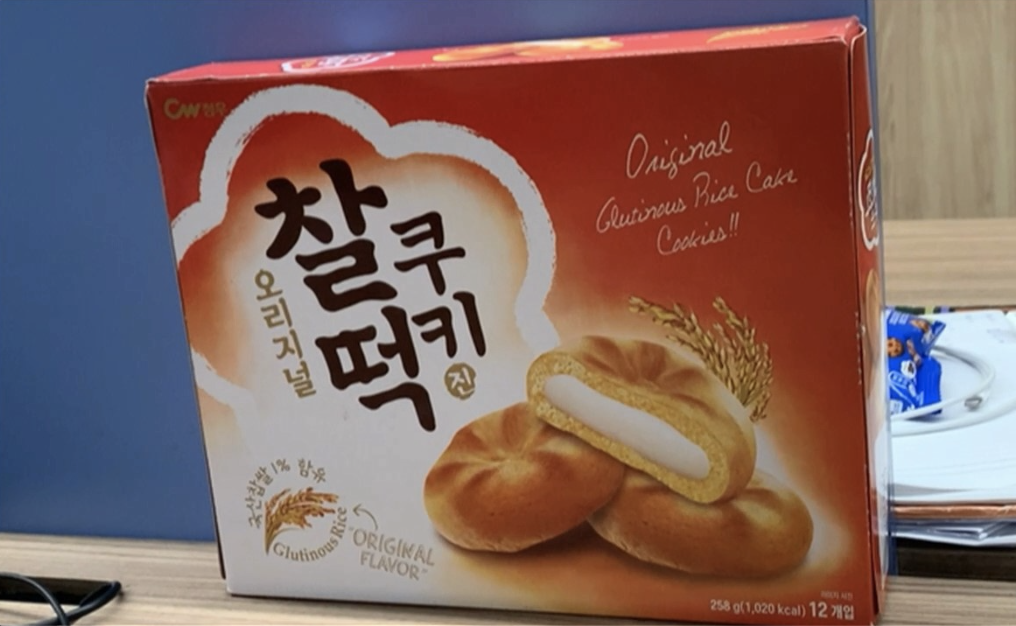cookies_200g-299g: (197, 97, 856, 597)
